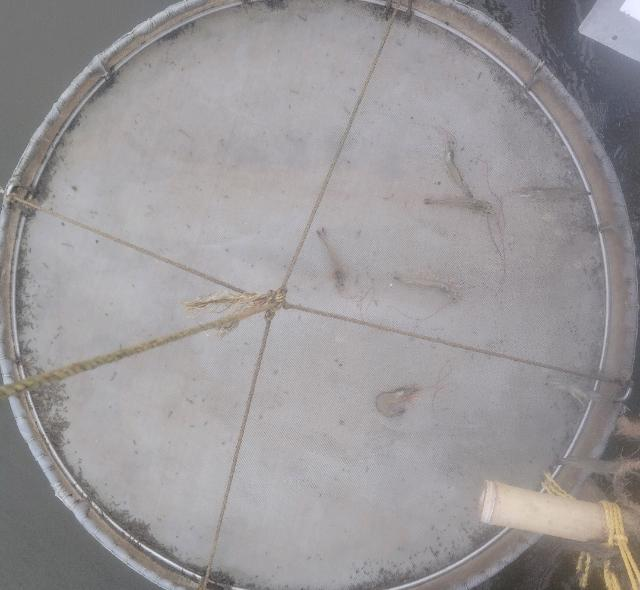shrimp: (444, 139, 476, 207), (316, 228, 346, 291), (393, 277, 461, 300), (546, 376, 591, 407), (375, 386, 421, 416), (424, 197, 491, 214), (514, 188, 591, 200)
